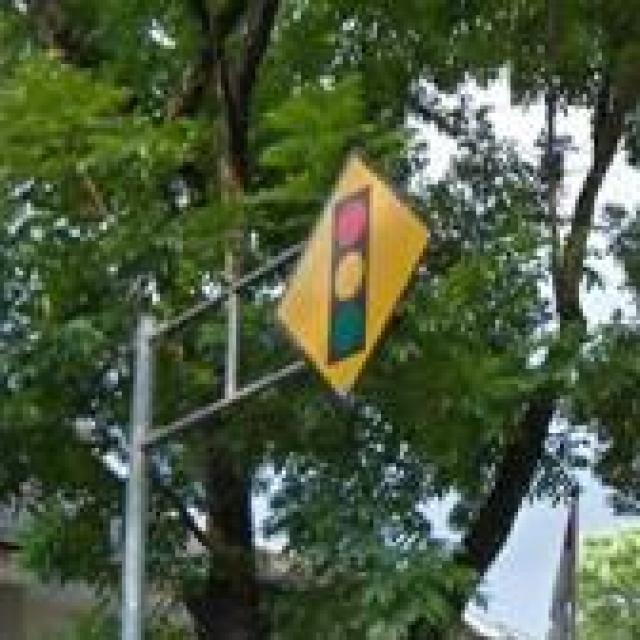traffic_light: (282, 147, 423, 392)
